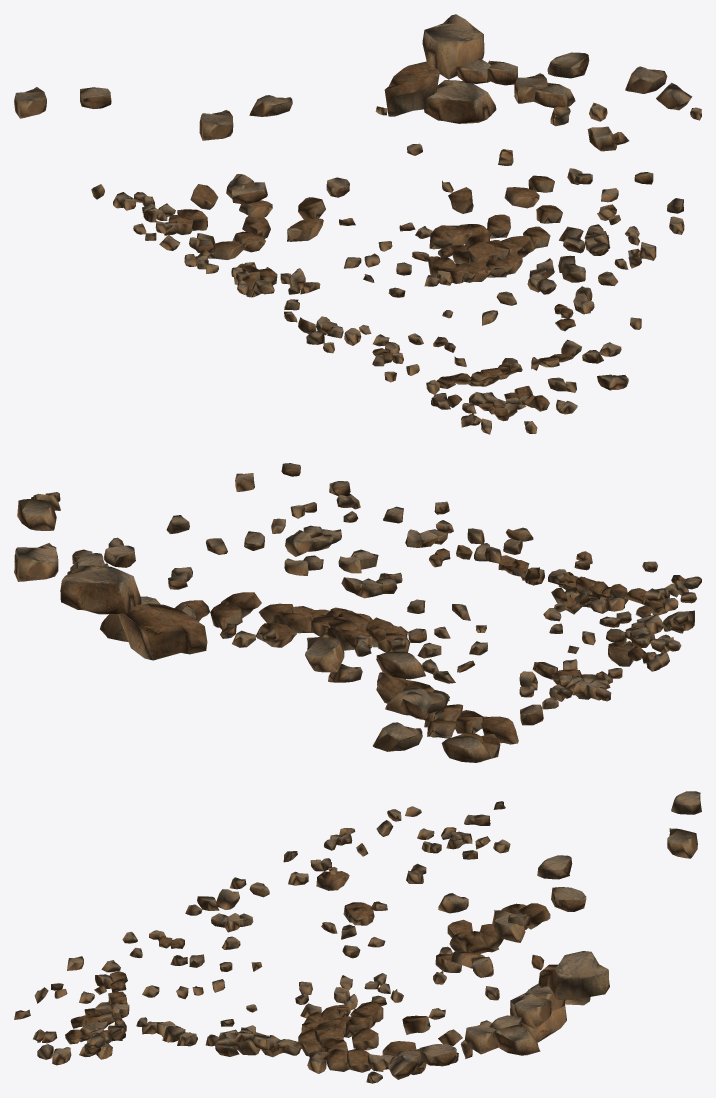
The model's file is Landscape4 1.fbx.
3 renders of one model, top to bottom at view 1: azimuth 30°, elevation 25°; view 2: azimuth 150°, elevation 25°; view 3: azimuth 270°, elevation 25°, orthographic. The views are drawn at different scales.
Parts seen in each view (by area): view 1: Landscape4.002; view 2: Landscape4.002; view 3: Landscape4.002.
Boxes of the visible parts, bbox=[...] form: Landscape4.002: bbox=[14, 14, 701, 434]; Landscape4.002: bbox=[14, 463, 701, 762]; Landscape4.002: bbox=[14, 791, 701, 1083].
Bounding box in the file's own units: 11135 × 3148 × 11948.
